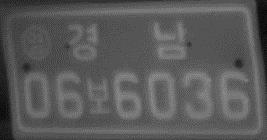0: (147, 70, 177, 120), (23, 71, 52, 119)
3: (182, 68, 216, 121)
6: (218, 69, 251, 121), (55, 69, 86, 120), (114, 71, 144, 121)
경남_D: (66, 19, 189, 63)
보: (84, 75, 113, 116)
영: (21, 25, 53, 62)
